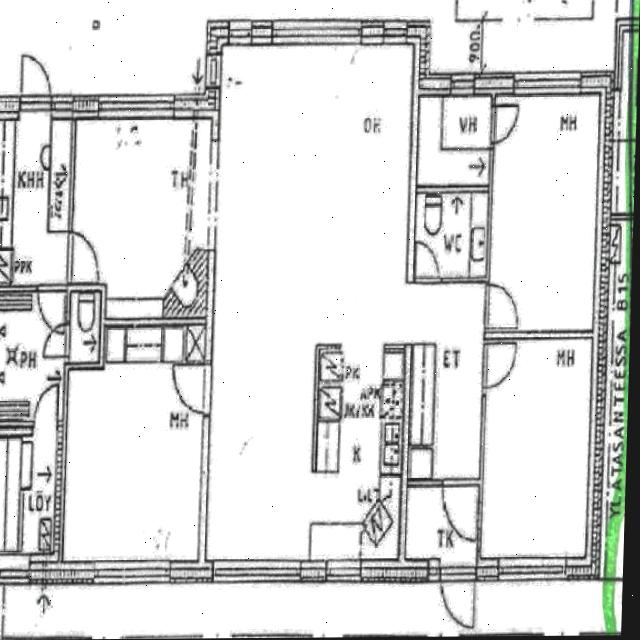room: (204, 39, 489, 565), (63, 322, 205, 565), (70, 115, 211, 320), (489, 92, 599, 335), (481, 336, 592, 561), (0, 120, 72, 286), (0, 293, 67, 420), (0, 428, 63, 561), (417, 94, 491, 186), (415, 191, 488, 279), (406, 485, 479, 559), (69, 292, 100, 364)
